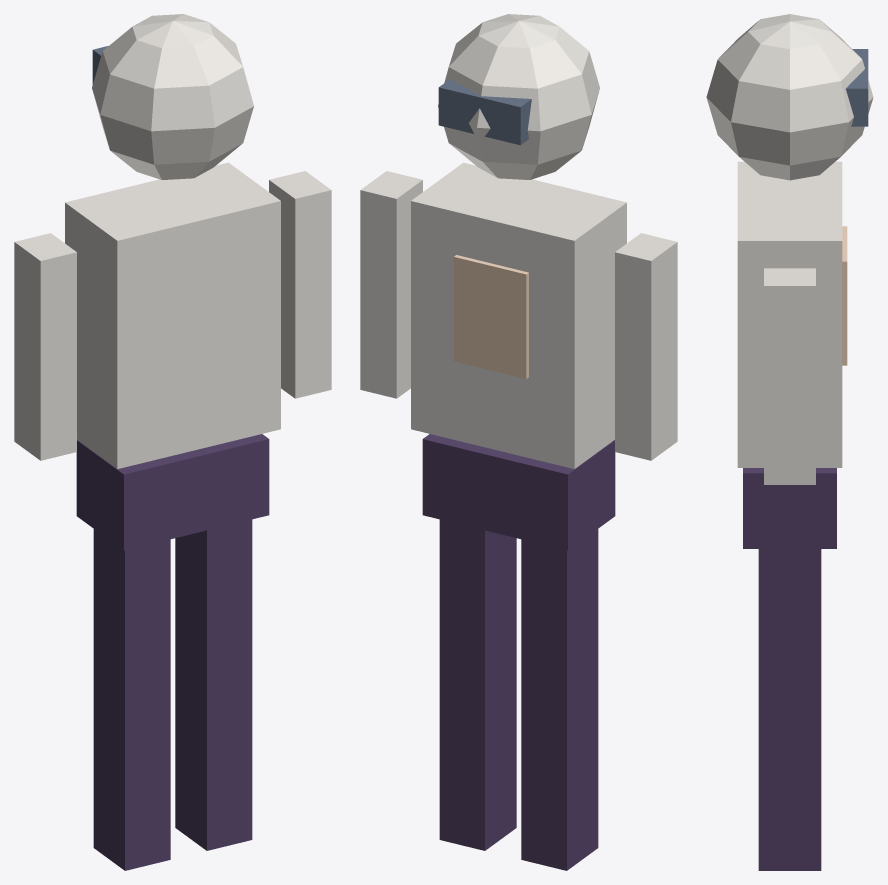
Rendered from pilot.glb.
The picture shows the model from 3 angles, left to right: view 1: azimuth 30°, elevation 25°; view 2: azimuth 150°, elevation 25°; view 3: azimuth 270°, elevation 25°; orthographic projection.
Visible parts, largest first — view 1: Pilot; view 2: Pilot; view 3: Pilot.
Boxes of the visible parts, left/top/right/bottom form: Pilot: left=14, top=14, right=331, bottom=870; Pilot: left=360, top=14, right=677, bottom=870; Pilot: left=706, top=14, right=873, bottom=870.
Size of the model in its own units: 0.64 by 1.73 by 0.32.
